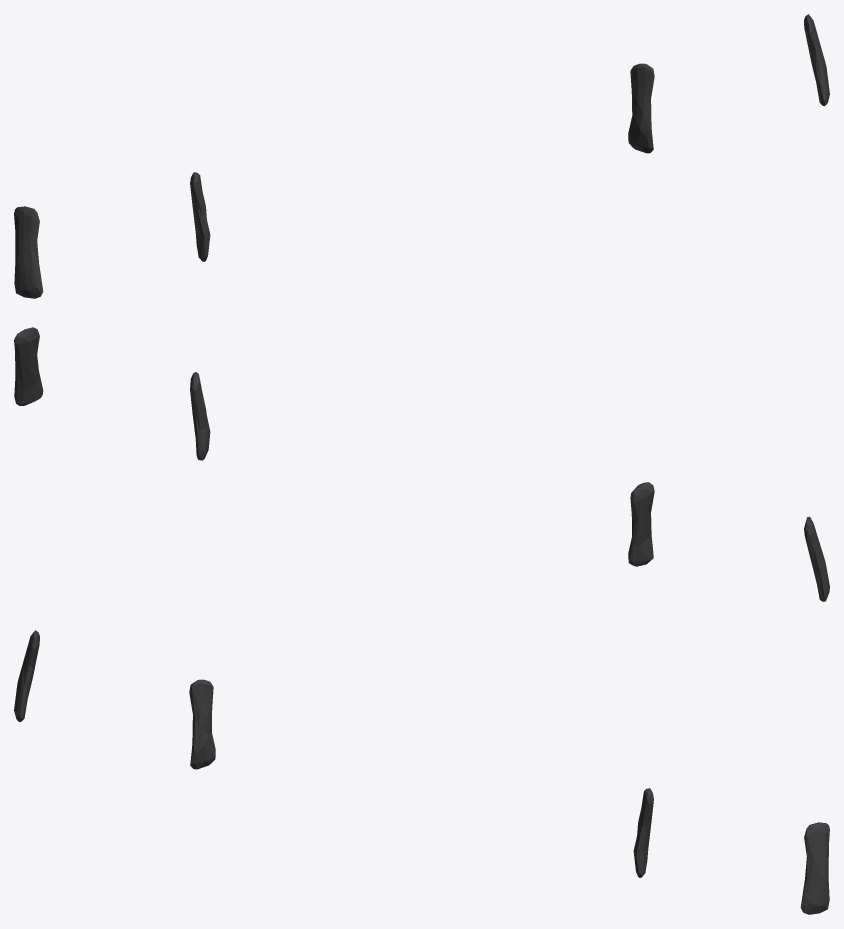
The model's file is lig_collateral_pastern_joint_FL.glb.
3 renders of one model, top to bottom at view 1: azimuth 30°, elevation 25°; view 2: azimuth 150°, elevation 25°; view 3: azimuth 330°, elevation 25°, orthographic.
Visible parts, largest first — view 1: lig_collateral_pastern_joint_FL; view 2: lig_collateral_pastern_joint_FL; view 3: lig_collateral_pastern_joint_FL.
Boxes of the visible parts, bbox=[...] form: lig_collateral_pastern_joint_FL: bbox=[14, 14, 829, 298]; lig_collateral_pastern_joint_FL: bbox=[14, 327, 829, 601]; lig_collateral_pastern_joint_FL: bbox=[14, 630, 829, 914].
Size of the model in its own units: 0.00425 by 0.000453 by 0.000205.
Materials: 1 (1 with a texture image).
